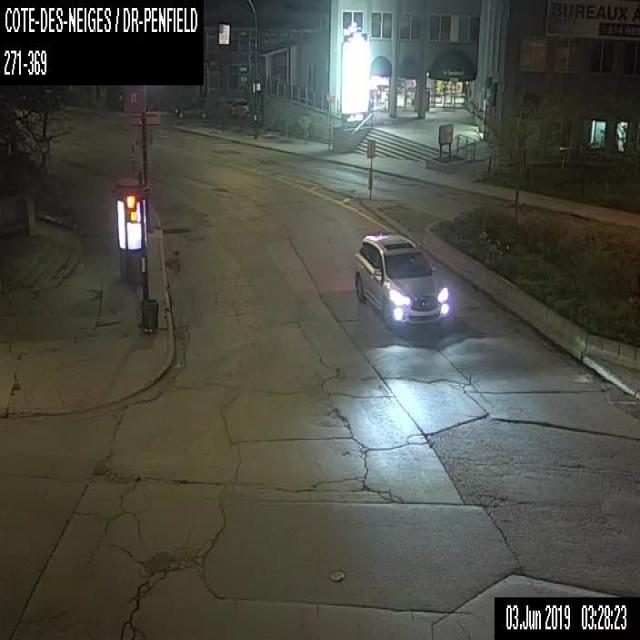vehicle: (352, 231, 449, 329), (174, 99, 206, 117), (227, 98, 250, 117)
